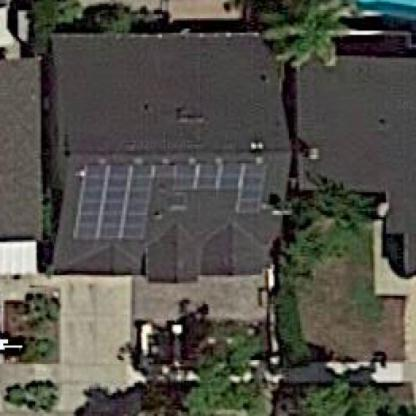solar_panel: (67, 144, 270, 250)
